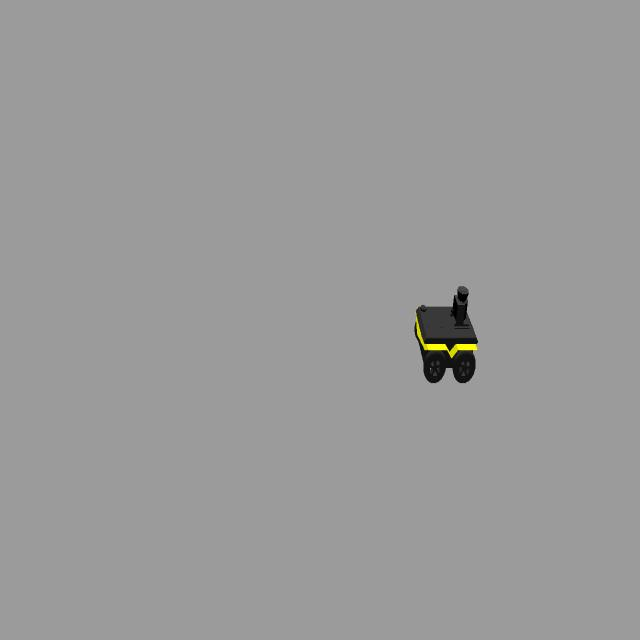jackal: (414, 283, 478, 388)
